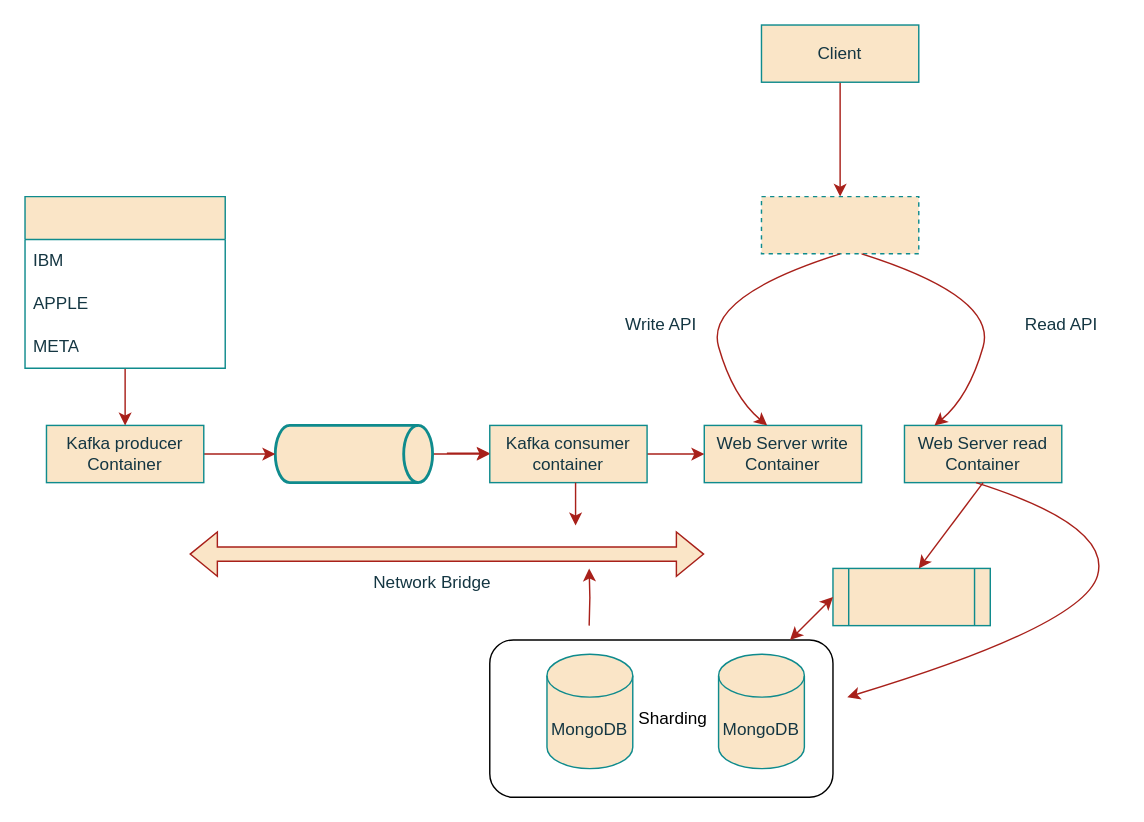
Some shapes in this 1144 by 822 pixel diagram are drawn without their labels. The box of each missing label's shape, as (x1, y1, x2, y2) in pixels:
Cache: (832, 567, 990, 626)
Data Streams: (273, 423, 433, 483)
Events: (24, 195, 225, 368)
Load Balancer: (760, 195, 919, 254)
